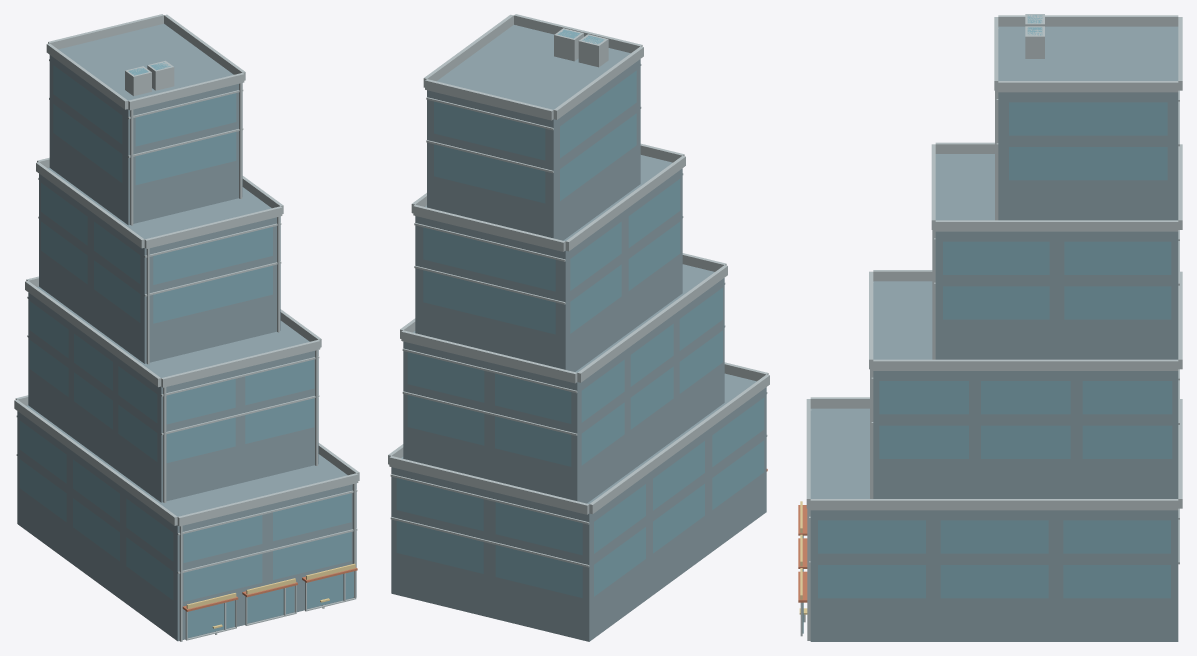
File: commercial_2x3_terraces.glb
3 views of the same model, side by side, from view 1: azimuth 30°, elevation 25°; view 2: azimuth 150°, elevation 25°; view 3: azimuth 270°, elevation 25° (orthographic). The views are drawn at different scales.
Parts seen in each view (by area): view 1: commercial_2x3_terraces_0; view 2: commercial_2x3_terraces_0; view 3: commercial_2x3_terraces_0.
Boxes of the visible parts, <box> form: commercial_2x3_terraces_0: <box>14,14,359,641</box>; commercial_2x3_terraces_0: <box>388,14,769,641</box>; commercial_2x3_terraces_0: <box>798,14,1182,641</box>.
Bounding box in the file's own units: 15 × 37.5 × 23.5.
